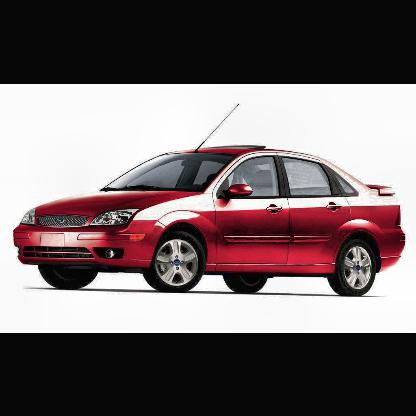Ford Focus Sedan 2007: (14, 145, 406, 298)
